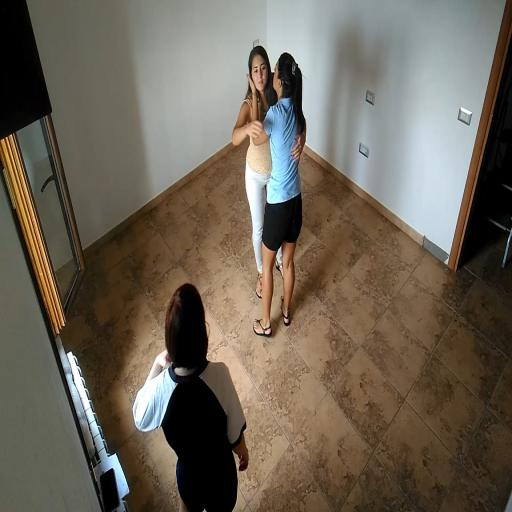nao-violencia: (224, 34, 317, 345)
